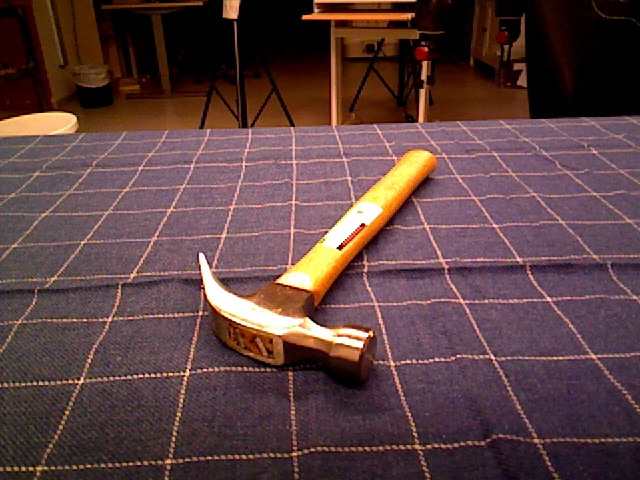hammer1: (198, 146, 441, 388)
